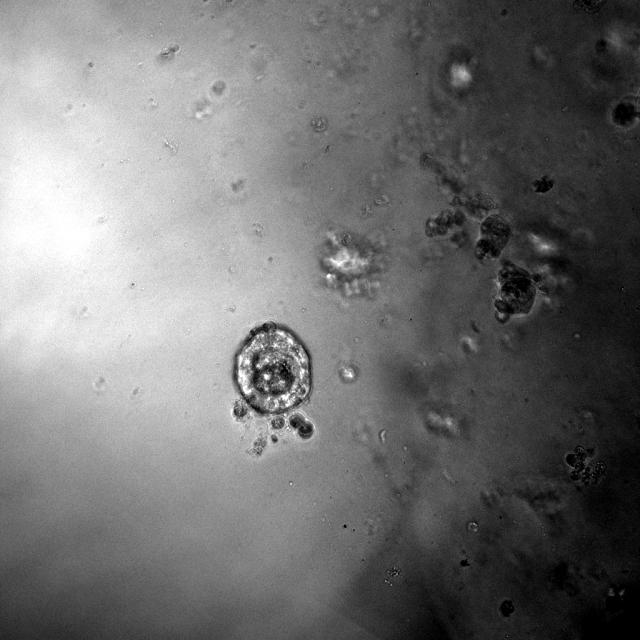organoid: (232, 323, 311, 428), (320, 232, 384, 296), (493, 261, 548, 322), (424, 192, 497, 237), (476, 214, 511, 259), (566, 445, 605, 485), (610, 95, 639, 128), (289, 412, 314, 438), (500, 599, 514, 617)
